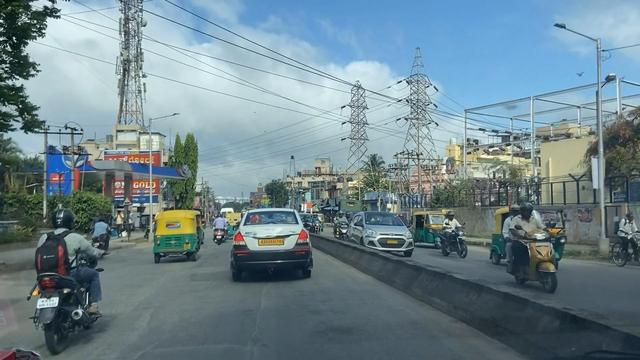LMV: (32, 203, 100, 348), (231, 209, 311, 278), (154, 212, 203, 262)
UnsurfacedRoad: (129, 298, 252, 360)
